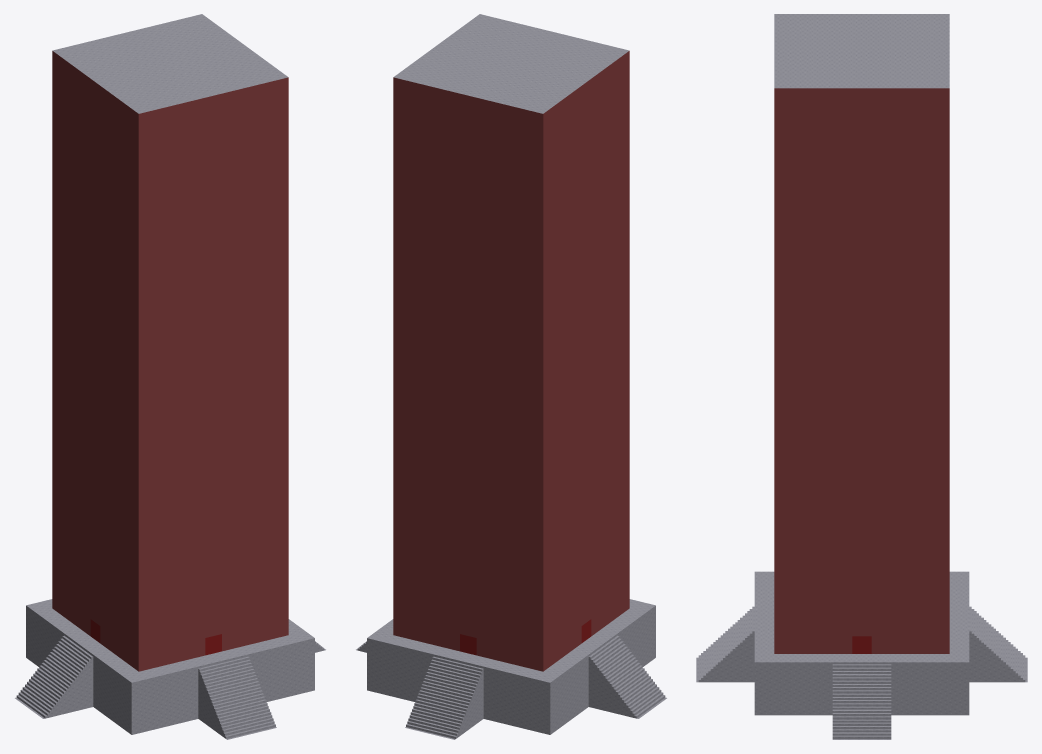
Rendered from Building_Skyscraper.fbx.
3 renders of one model, left to right at view 1: azimuth 30°, elevation 25°; view 2: azimuth 150°, elevation 25°; view 3: azimuth 270°, elevation 25°, orthographic.
Visible parts, largest first — view 1: Building_Skyscraper001, Building_Base001, Building_Stairs001; view 2: Building_Skyscraper001, Building_Base001, Building_Stairs001; view 3: Building_Skyscraper001, Building_Base001, Building_Stairs001.
Part boxes in pixels (box(x1,y1,x2,y2)): Building_Skyscraper001: box(52, 14, 288, 671); Building_Base001: box(26, 599, 314, 734); Building_Stairs001: box(15, 634, 325, 739); Building_Skyscraper001: box(393, 14, 629, 671); Building_Base001: box(367, 599, 655, 734); Building_Stairs001: box(356, 634, 666, 739); Building_Skyscraper001: box(774, 14, 949, 653); Building_Base001: box(754, 571, 969, 715); Building_Stairs001: box(696, 606, 1027, 739).
Size of the model in its own units: 3400 by 7000 by 3400.
